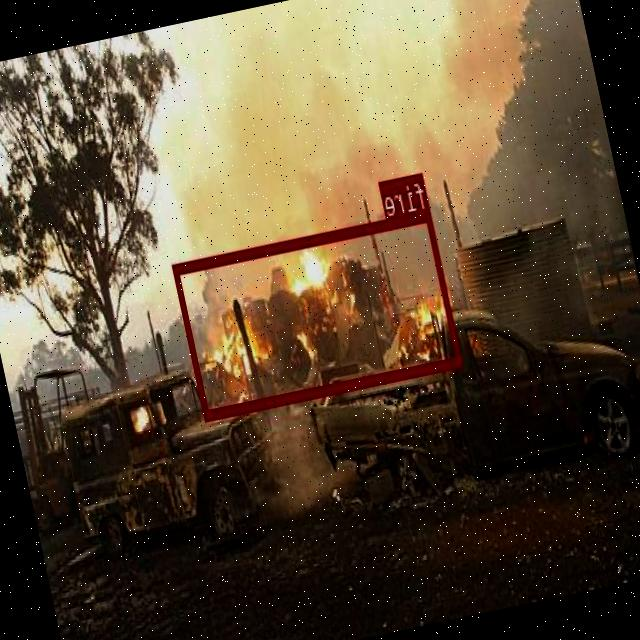fire: (173, 209, 463, 418)
